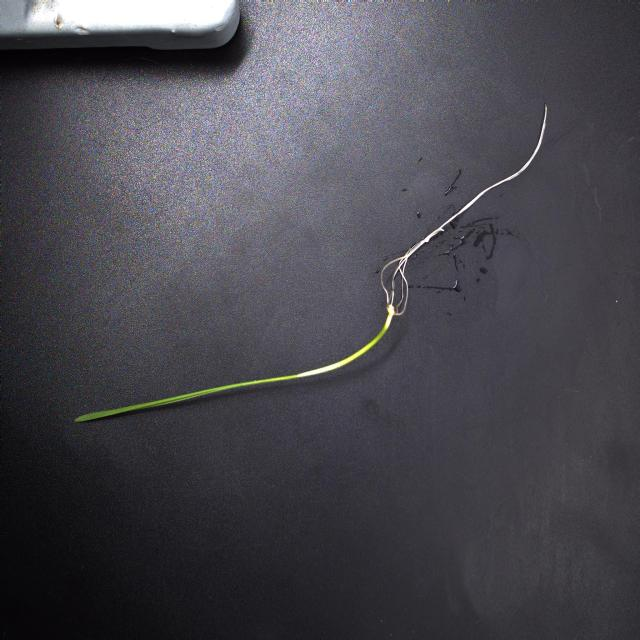leaf: (75, 375, 294, 422)
root: (381, 101, 549, 314)
stem: (293, 306, 392, 379)
